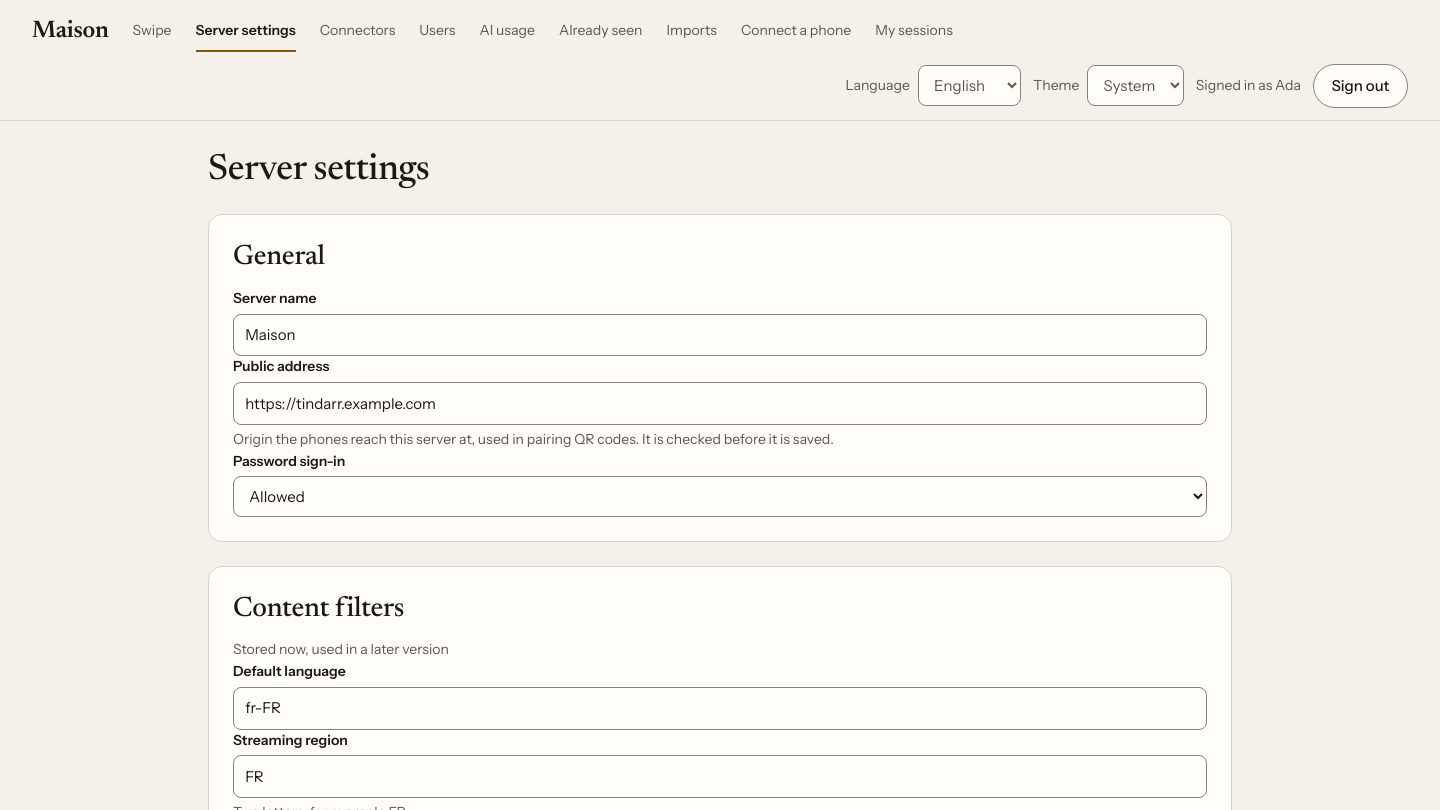
Scenario: the server settings › sends only the fields that changed
Replace the text in the field labelled "Server name" with "Salon": (720, 335) [233, 314, 1207, 356]
(page scrolled)
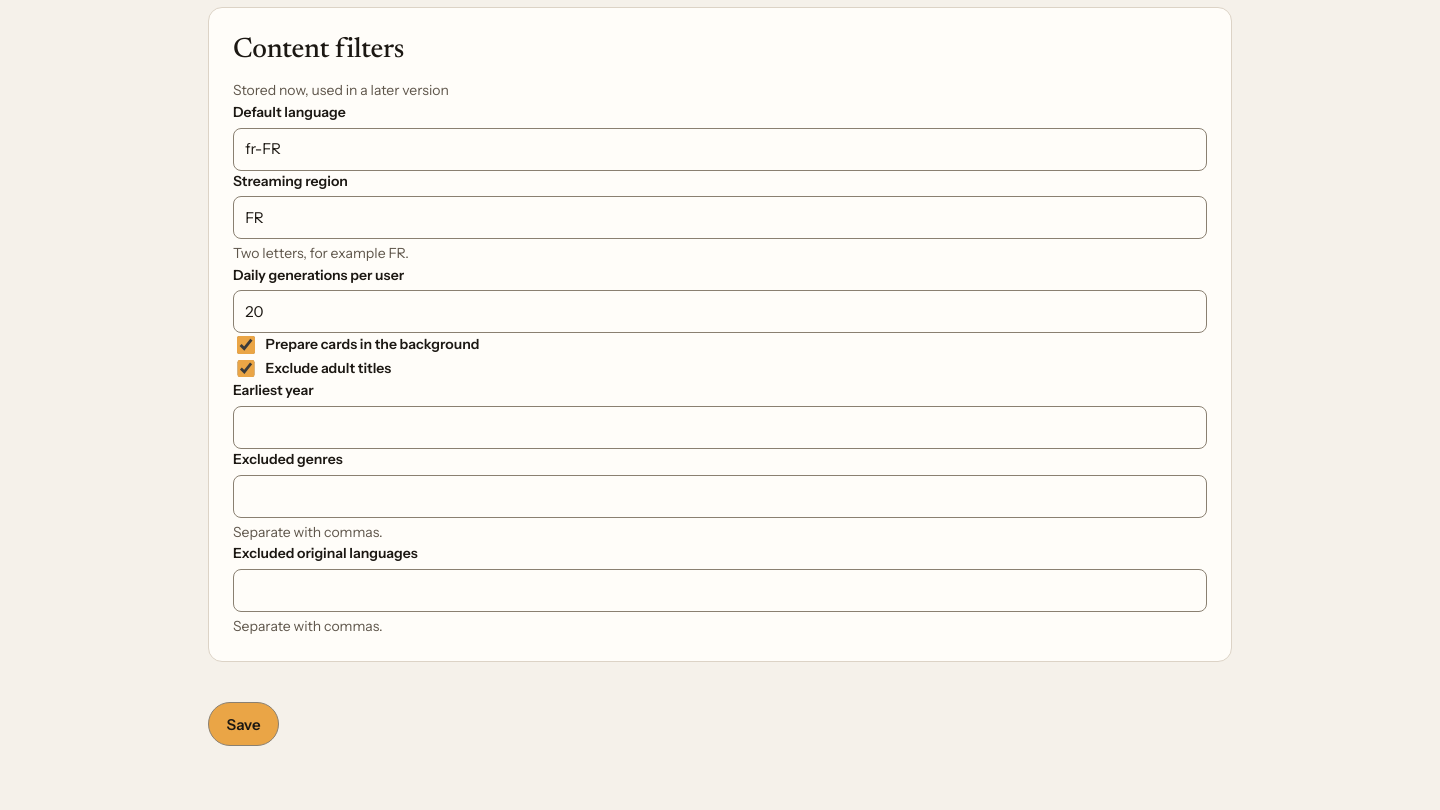
Click the button "Save": (244, 724) [208, 702, 279, 746]
(page scrolled)
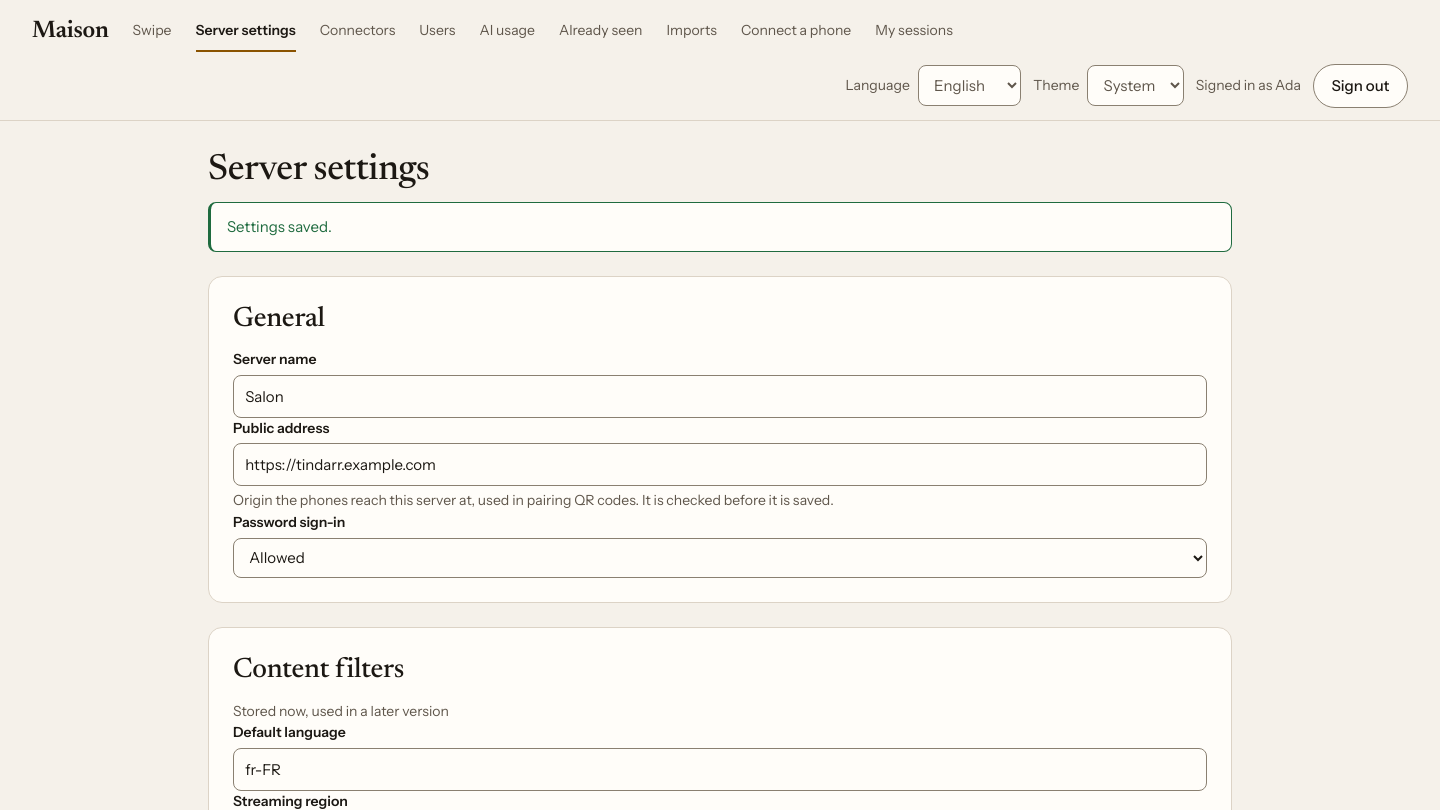
Expected: the text "Settings saved." is shown, [208, 202, 1232, 252]
